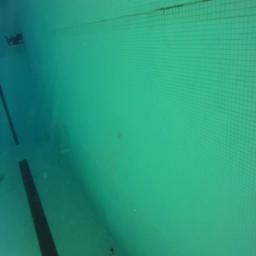front: (5, 31, 22, 46)
